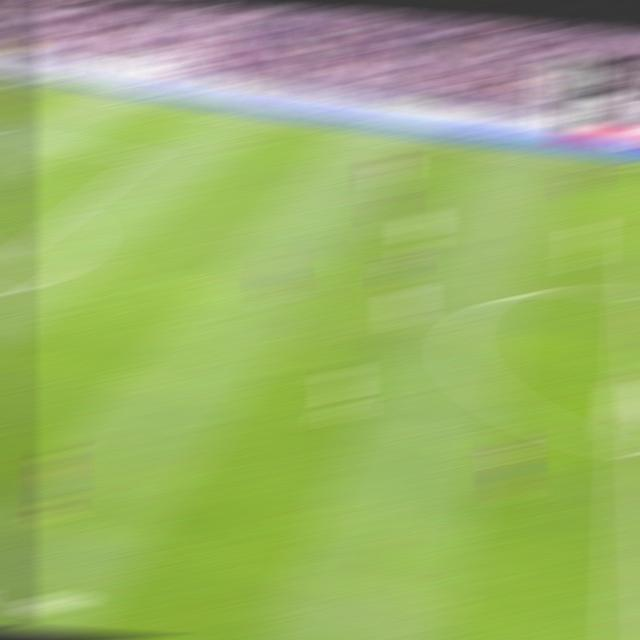bigarea_top_inner: (130, 149, 157, 164)
corner: (9, 76, 37, 85)
halfcircle_bottom: (612, 434, 640, 465)
halfcircle_top: (620, 282, 640, 304)
midline_top_intersection: (630, 162, 640, 173)
top_arc_area_intersection: (53, 205, 82, 220)
